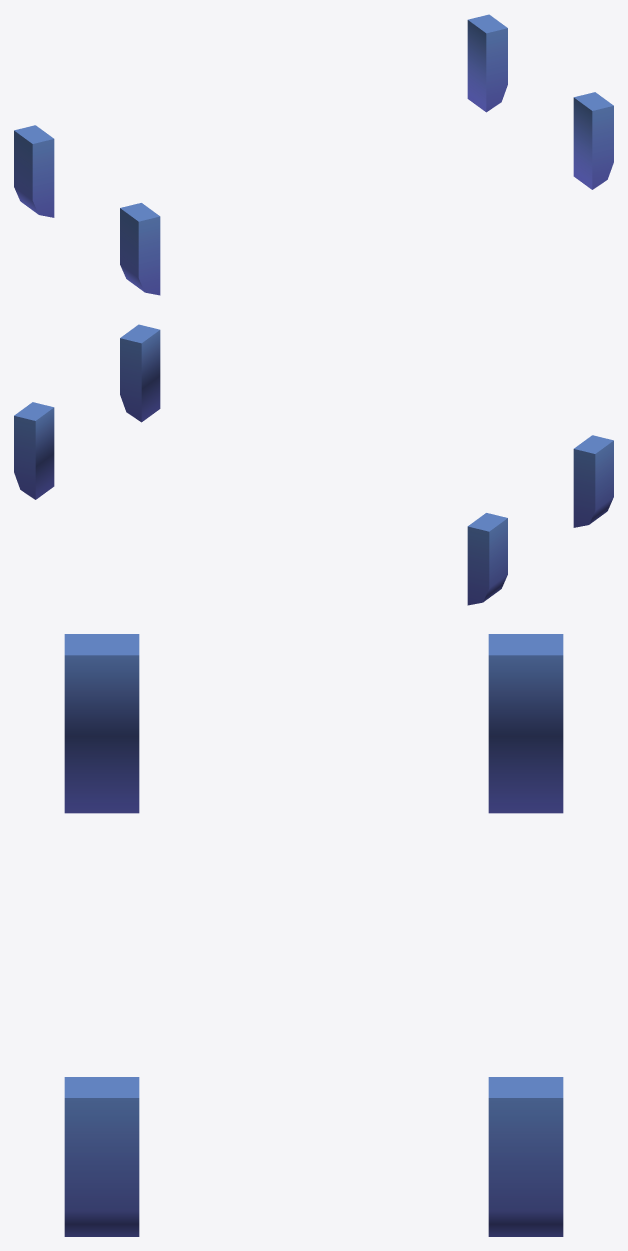
The model's file is kenney-toy-car-supports-wide-clamp.glb.
3 views of the same model, one above another, from view 1: azimuth 30°, elevation 25°; view 2: azimuth 150°, elevation 25°; view 3: azimuth 270°, elevation 25° (orthographic). The views are drawn at different scales.
Parts seen in each view (by area): view 1: supports-wide-clamp; view 2: supports-wide-clamp; view 3: supports-wide-clamp.
Part boxes in pixels (box(x1,y1,x2,y2)): supports-wide-clamp: box(14, 14, 613, 295); supports-wide-clamp: box(14, 324, 613, 605); supports-wide-clamp: box(64, 634, 563, 1236).
Size of the model in its own units: 2.2 by 0.3499 by 0.9999.
Materials: 1 (1 with a texture image).
